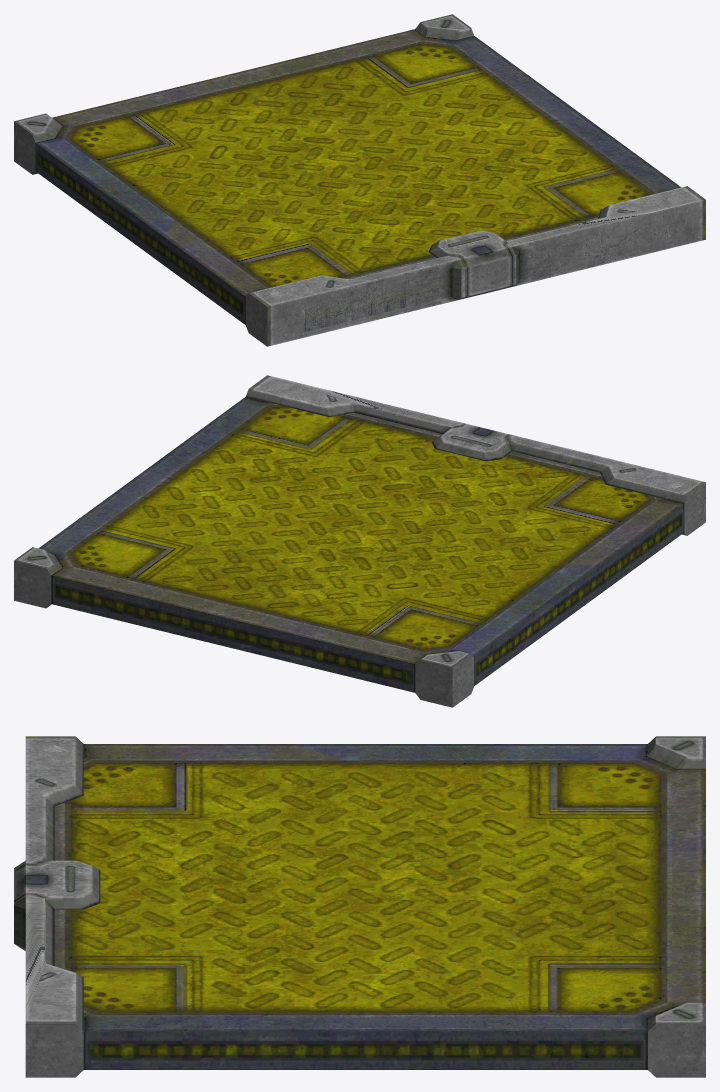
File: catwalk_3way_nohandrail.dae
3 views of the same model, one above another, from view 1: azimuth 30°, elevation 25°; view 2: azimuth 150°, elevation 25°; view 3: azimuth 270°, elevation 25° (orthographic). The views are drawn at different scales.
Visible parts, largest first — view 1: polySurface101; view 2: polySurface101; view 3: polySurface101.
Boxes of the visible parts, <box> form: polySurface101: <box>14,14,705,346</box>; polySurface101: <box>14,375,705,707</box>; polySurface101: <box>14,736,705,1077</box>.
Bounding box in the file's own units: 2 × 0.1745 × 2.03.
Materials: 1 (1 with a texture image).
